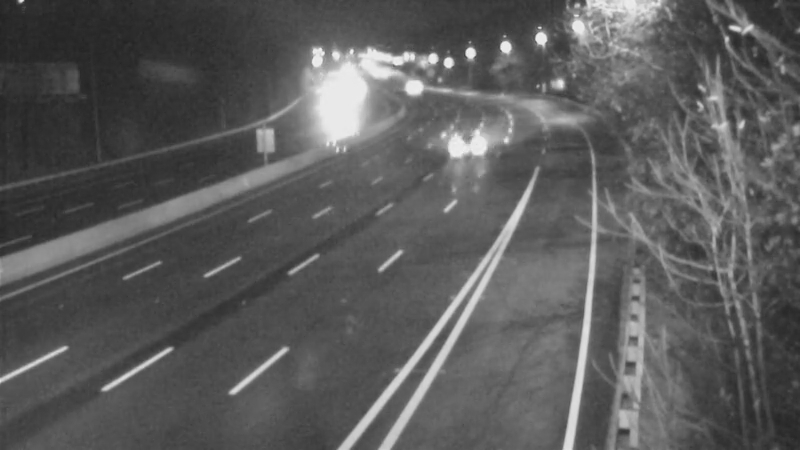vehicle: (384, 58, 434, 108), (438, 123, 488, 173)
